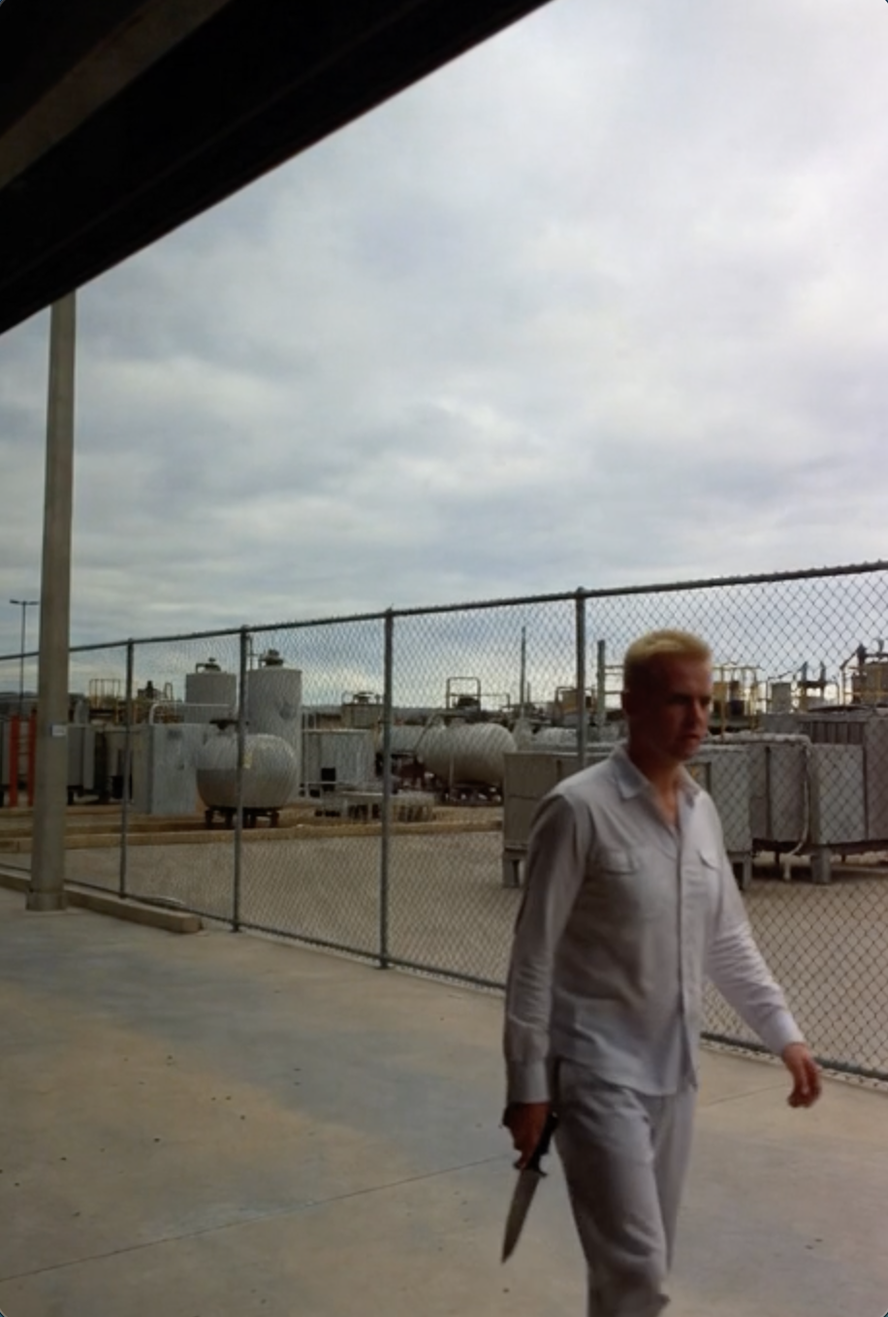Heavy Gun: (480, 617, 825, 1310)
Knife: (487, 1083, 575, 1269)
